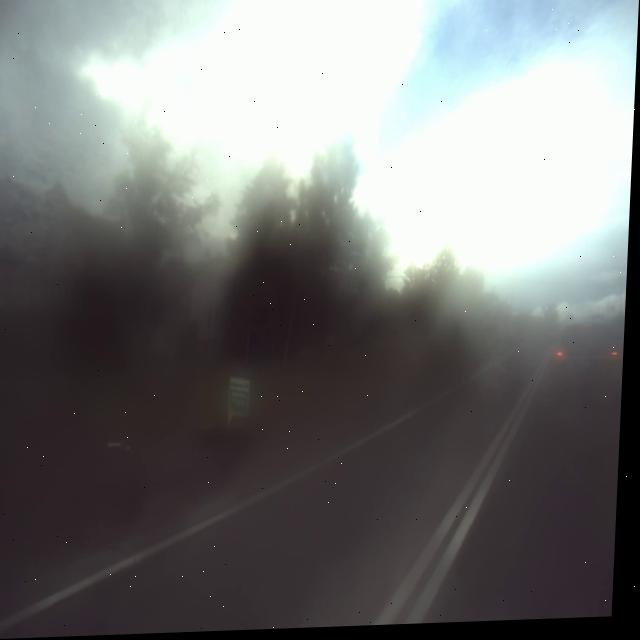car: (552, 316, 625, 419)
